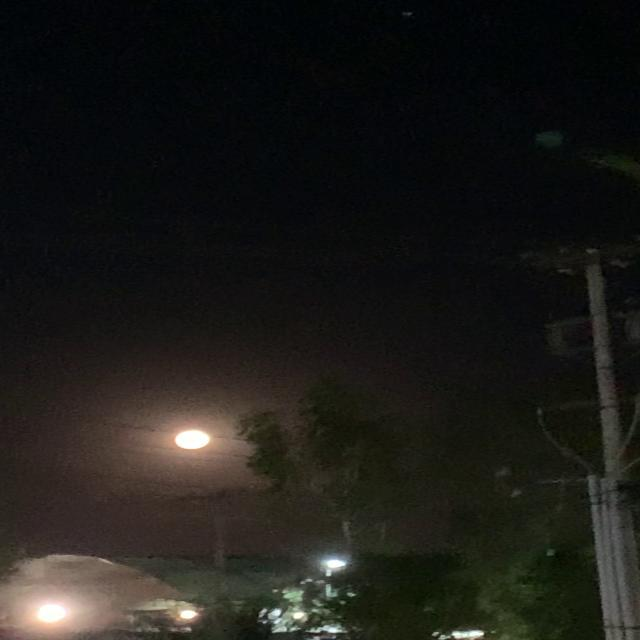moon: (172, 429, 214, 454)
